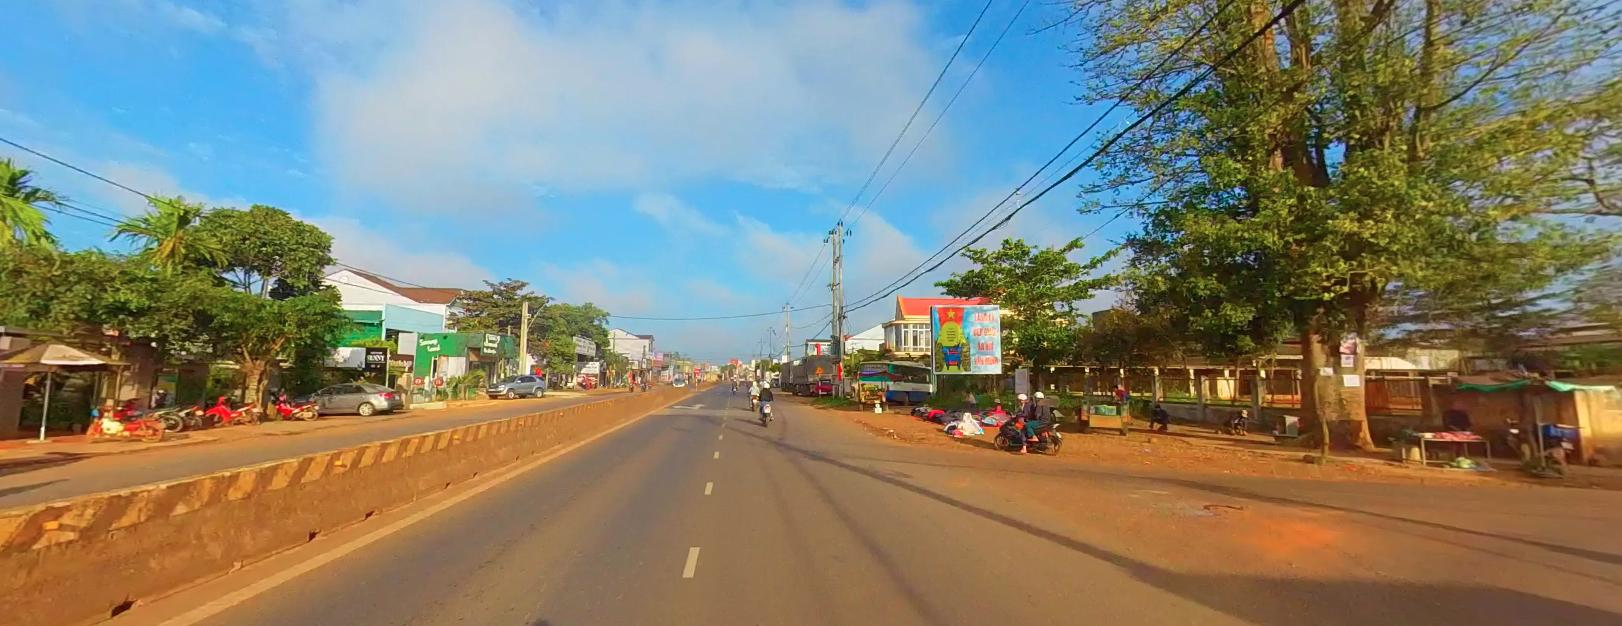Cam nguoc chieu: (694, 367, 699, 372)
Nguy hiem: (814, 364, 824, 372)
